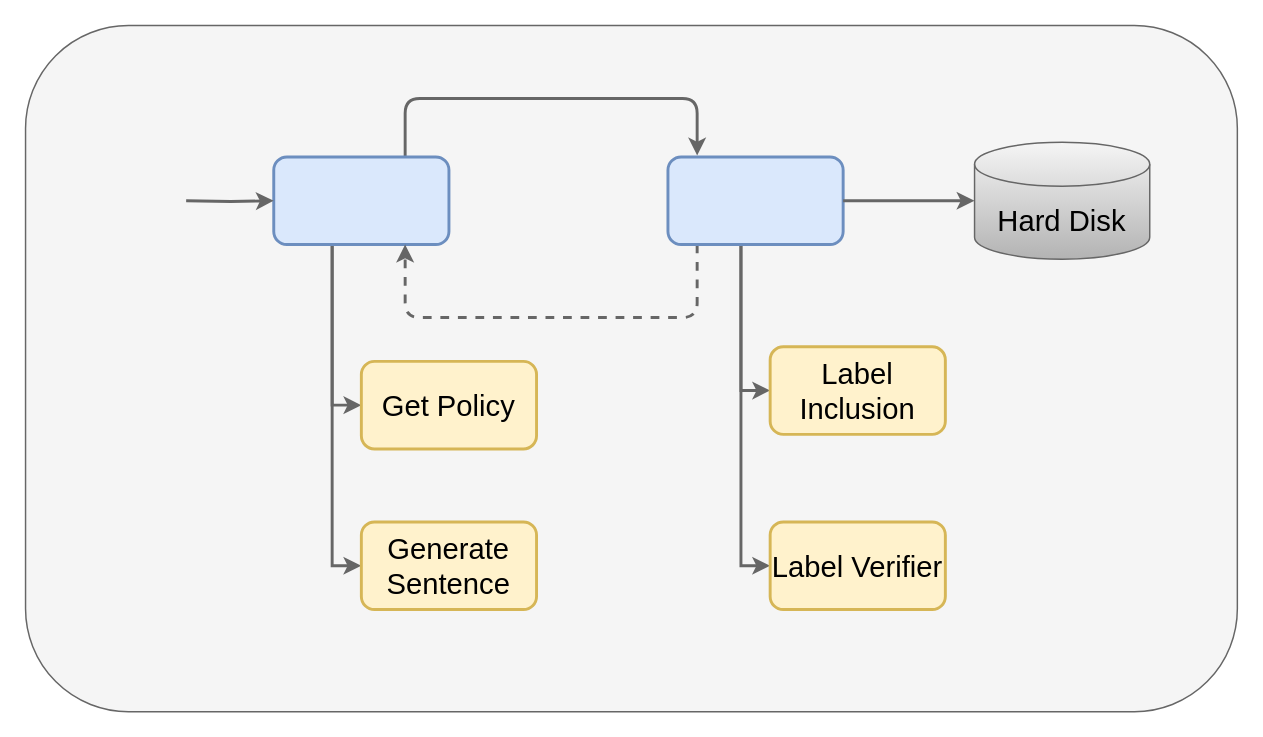
This 1263x737 diagram has some shape labels left out. The centre of each missing label's shape, as x and y in pixels:
"Evaluator Agent" goes at [755,200].
"Generator Agent" goes at [361,200].
